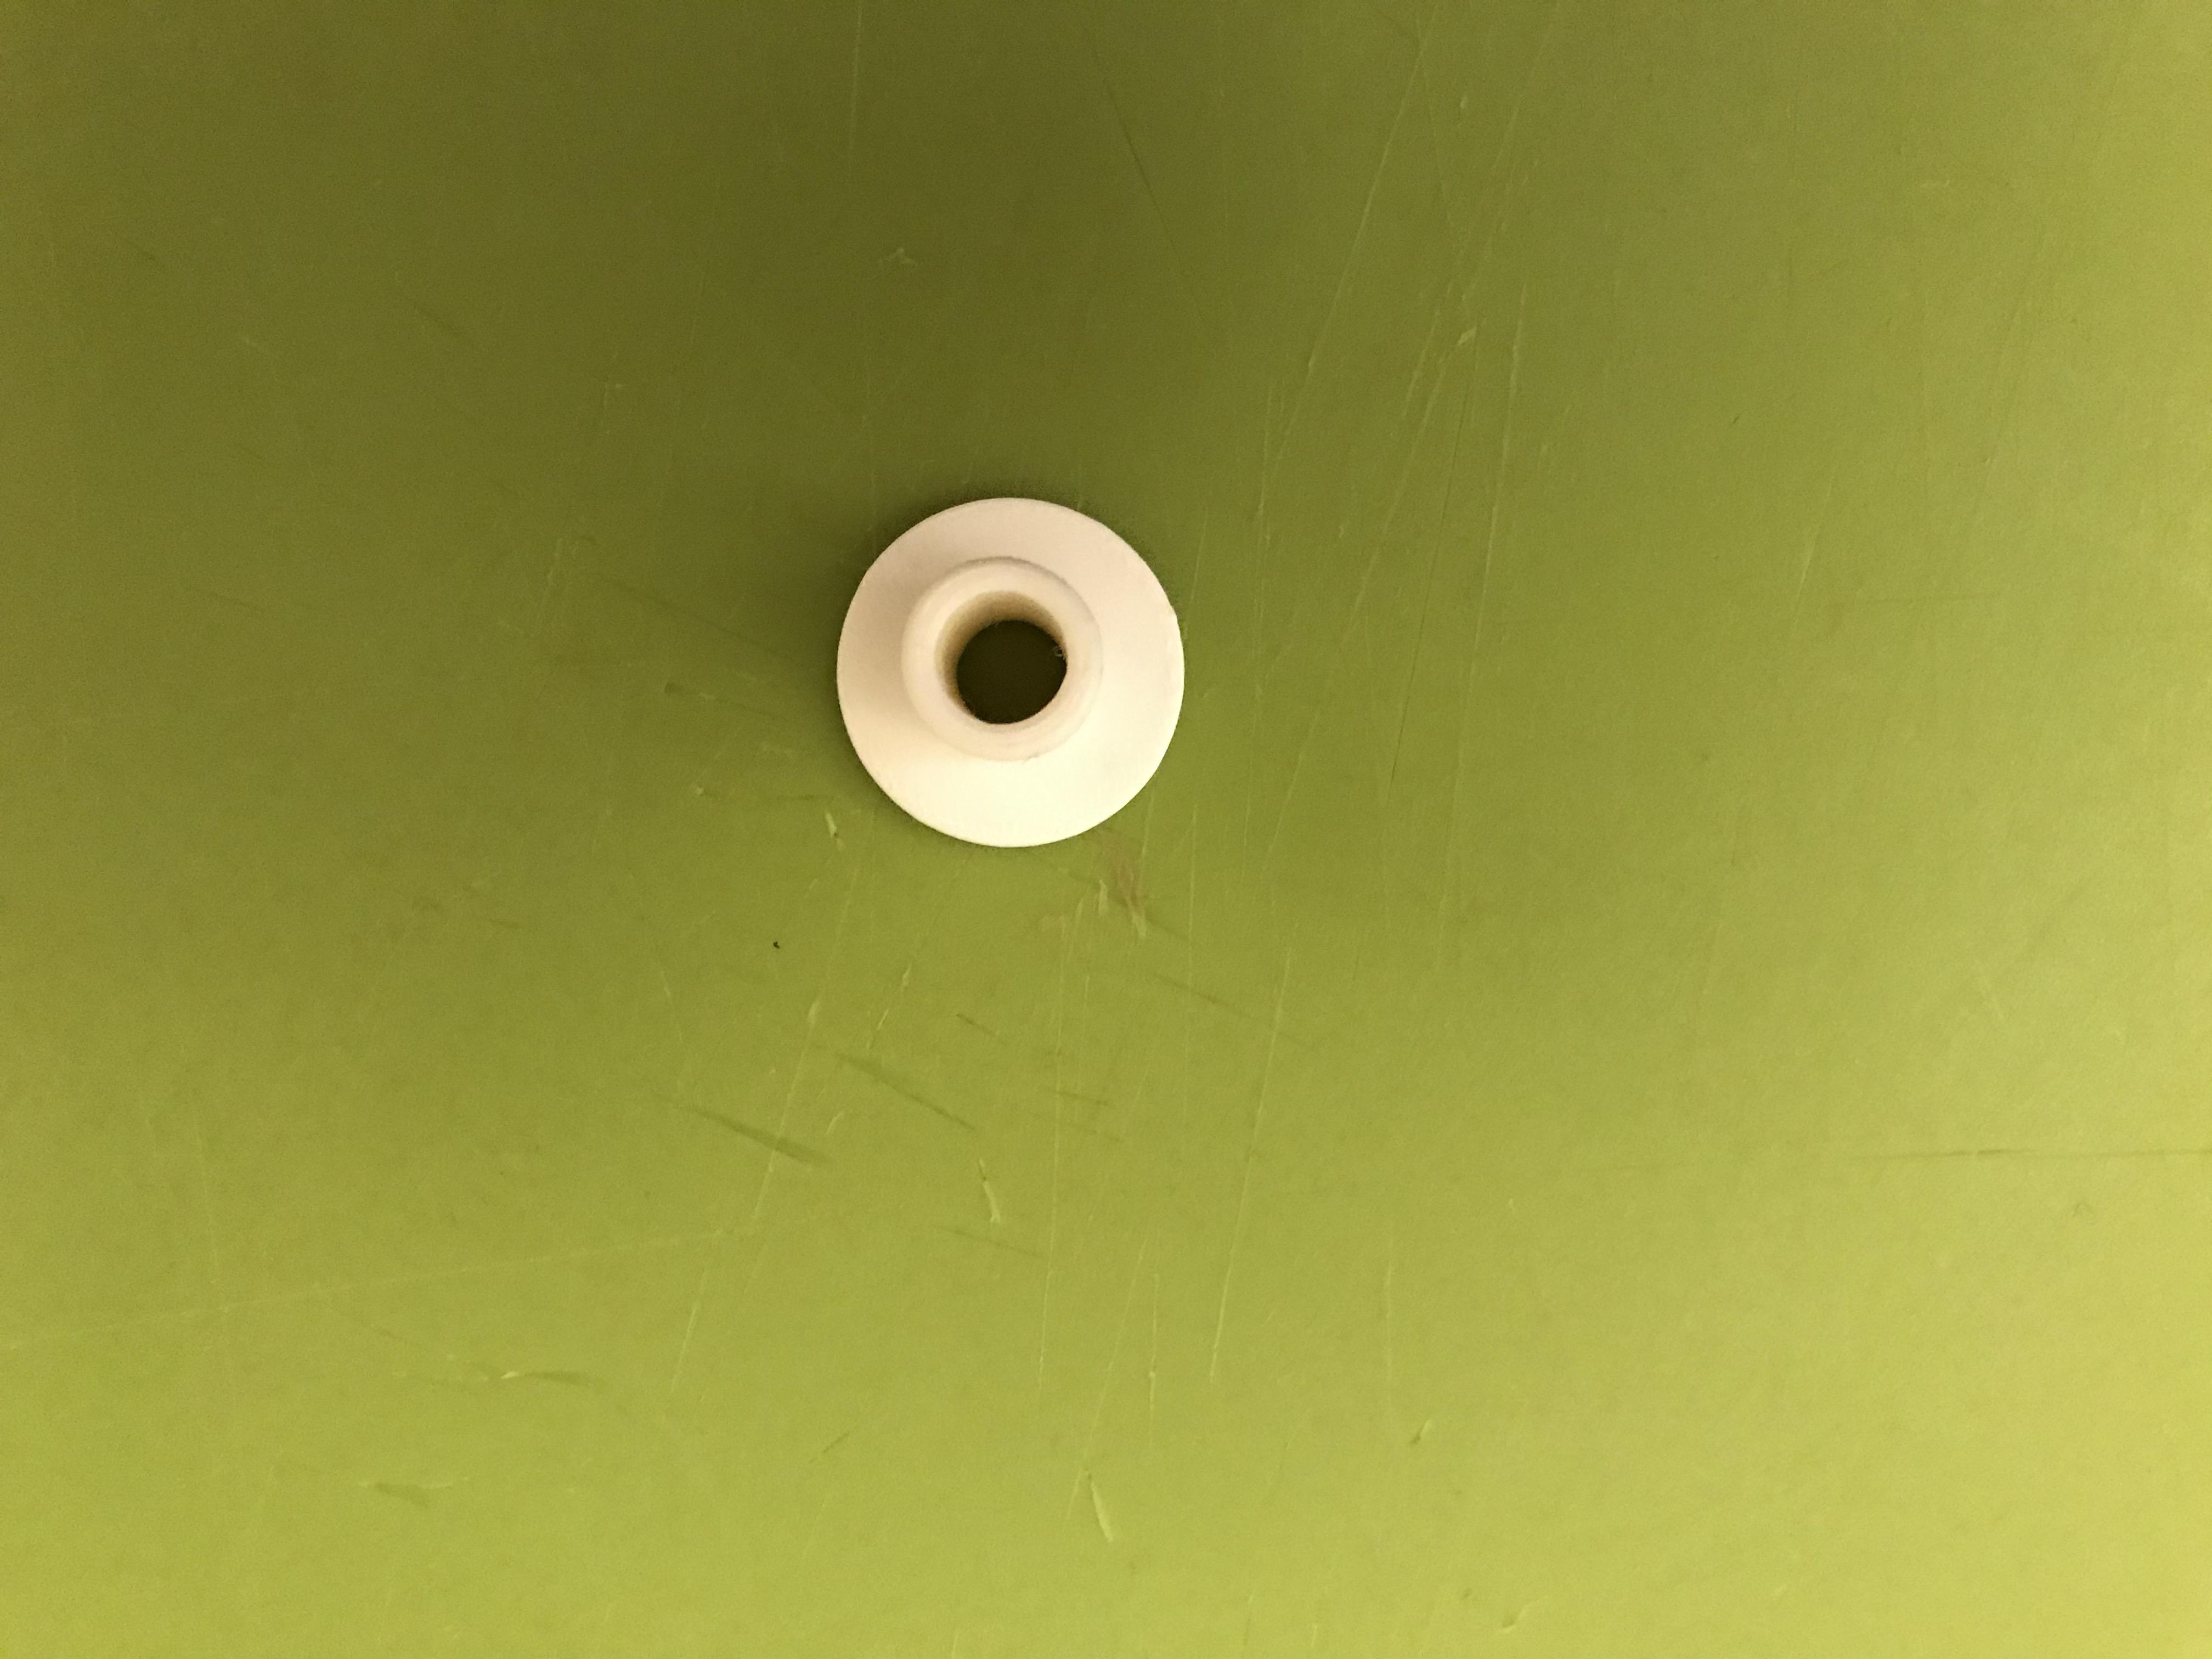White Cone: (815, 490, 1202, 871)
